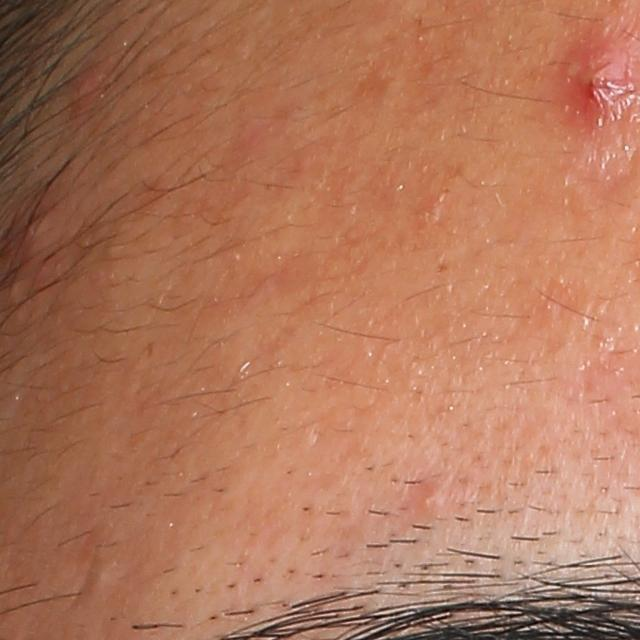comedo: (83, 563, 121, 593)
papule: (13, 204, 66, 253), (66, 57, 112, 113), (411, 477, 452, 522)
